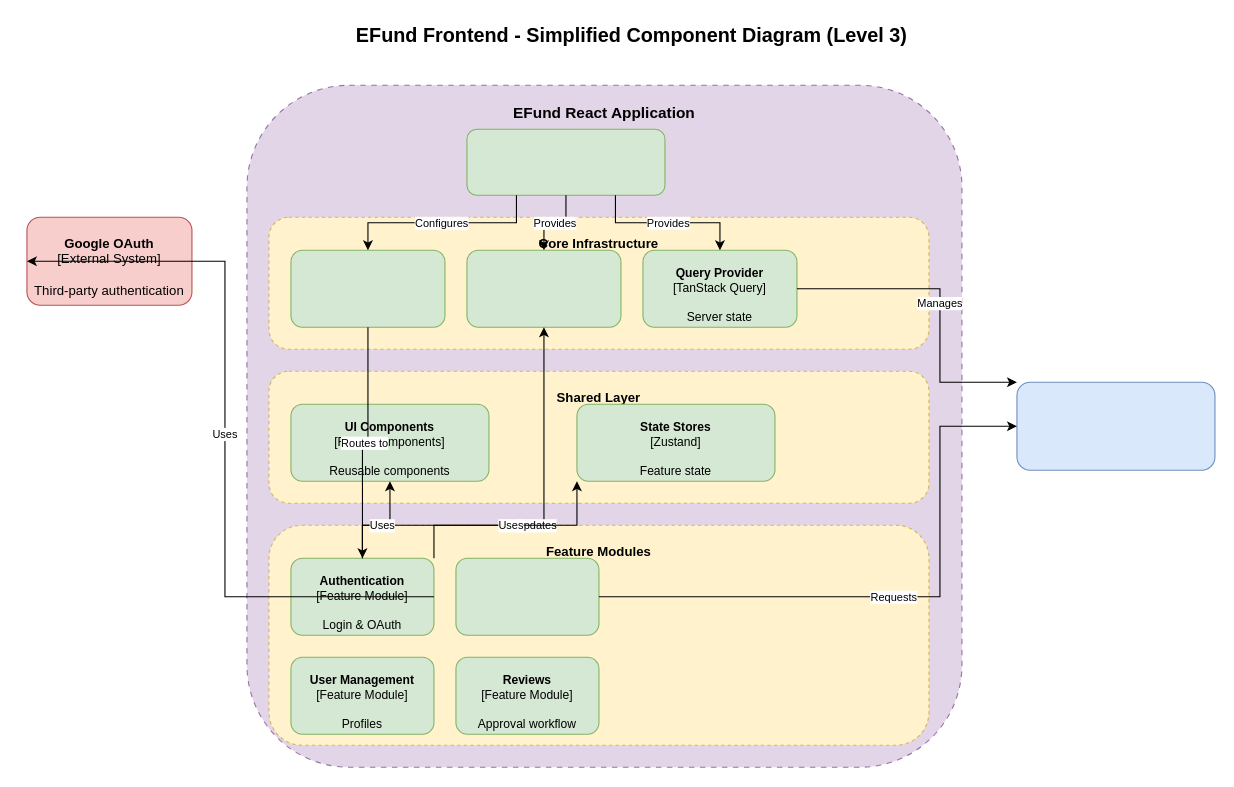
Image size: 1234x787. Some labels were removed from this diagram. Each missing label, with the centre of its shape:
App Component [React Component] Main application shell: the point at 565,161
EFund Backend API [System] REST API for business logic: the point at 1115,425
Fundraising [Feature Module] Campaign CRUD: the point at 527,596
React Router [BrowserRouter] Client-side routing: the point at 367,288
User Context [React Context] Authentication state: the point at 543,288
